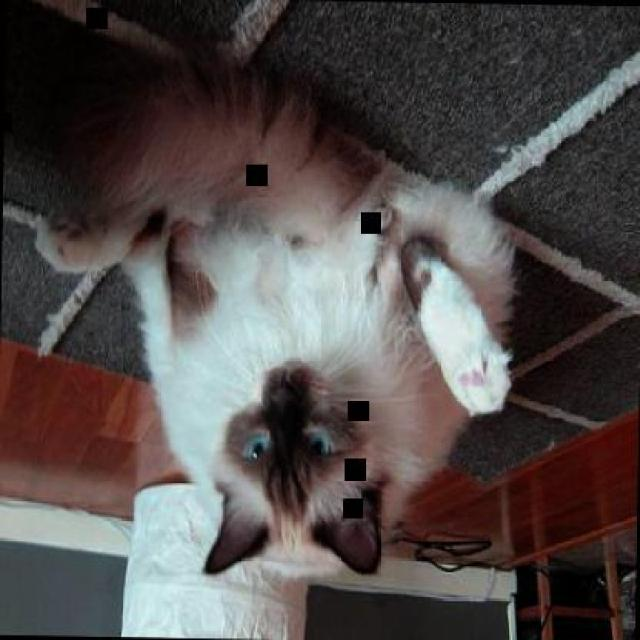cat: (28, 59, 517, 582)
